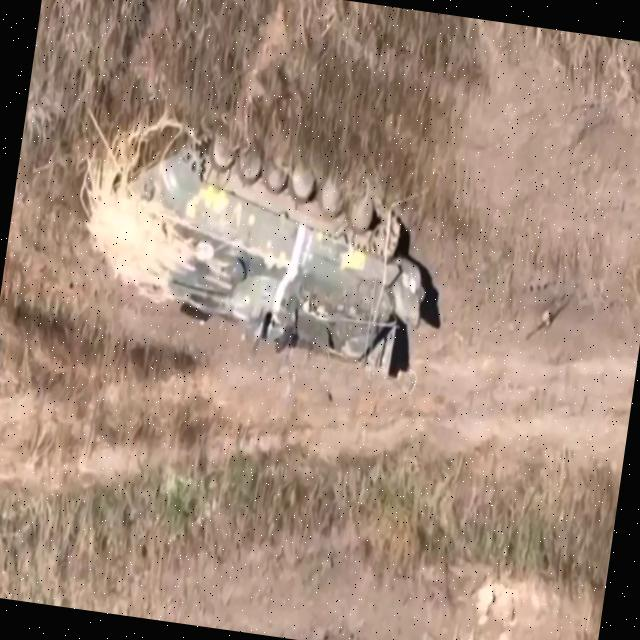AIFV: (93, 107, 447, 386)
